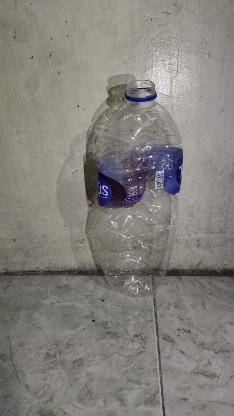Plastic Bottle: (96, 80, 184, 209), (84, 74, 136, 204)
